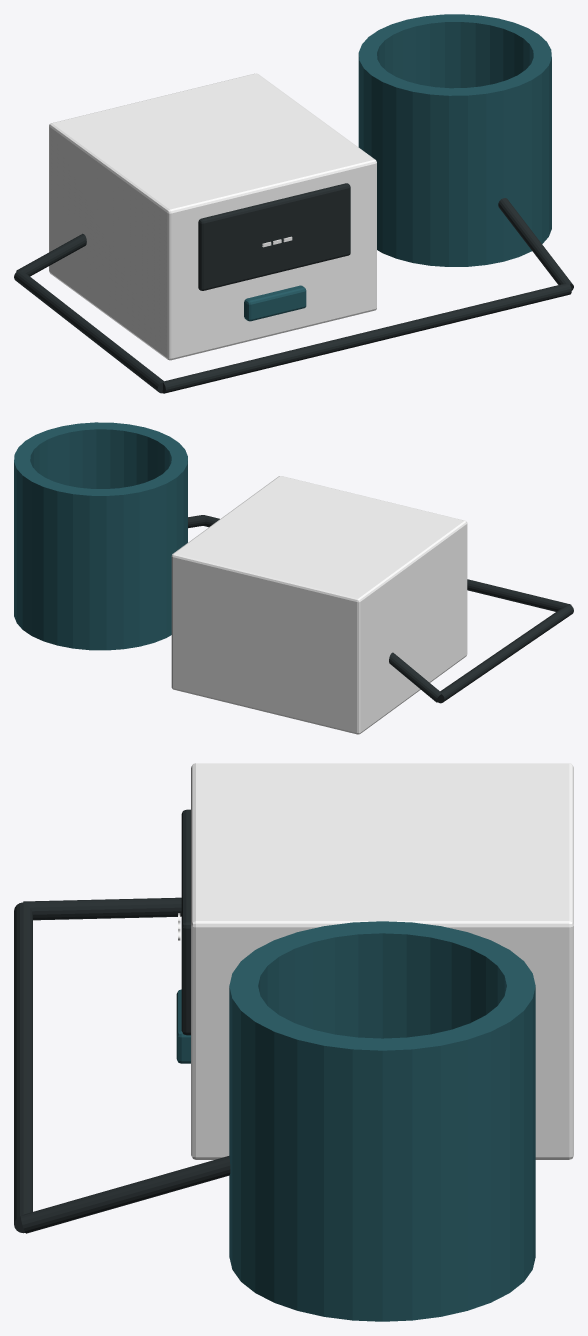
File: blood-pressure-monitor.glb
The picture shows the model from 3 angles, top to bottom: view 1: azimuth 30°, elevation 25°; view 2: azimuth 150°, elevation 25°; view 3: azimuth 270°, elevation 25°; orthographic projection. The views are drawn at different scales.
Parts seen in each view (by area): view 1: Monitor_Housing, Fabric_Cuff, Display, Air_Tube.003, Air_Tube.002, Start_Button, Air_Tube, Air_Tube.001; view 2: Monitor_Housing, Fabric_Cuff, Air_Tube.002, Air_Tube.003, Air_Tube.001; view 3: Fabric_Cuff, Monitor_Housing, Air_Tube.003, Air_Tube, Air_Tube.002, Display, Start_Button.
Part boxes in pixels (left/top/right/bottom): Monitor_Housing: left=49, top=73, right=376, bottom=360; Fabric_Cuff: left=358, top=14, right=551, bottom=266; Display: left=198, top=183, right=350, bottom=290; Air_Tube.003: left=162, top=283, right=571, bottom=393; Air_Tube.002: left=14, top=271, right=163, bottom=393; Start_Button: left=244, top=285, right=306, bottom=321; Air_Tube: left=498, top=198, right=573, bottom=290; Air_Tube.001: left=16, top=233, right=86, bottom=276; Monitor_Housing: left=171, top=476, right=467, bottom=734; Fabric_Cuff: left=14, top=422, right=187, bottom=650; Air_Tube.002: left=438, top=604, right=573, bottom=703; Air_Tube.003: left=203, top=515, right=571, bottom=611; Air_Tube.001: left=389, top=652, right=441, bottom=702; Fabric_Cuff: left=229, top=921, right=535, bottom=1321; Monitor_Housing: left=191, top=763, right=573, bottom=1159; Air_Tube.003: left=14, top=902, right=32, bottom=1233; Air_Tube: left=20, top=1156, right=230, bottom=1233; Air_Tube.002: left=23, top=897, right=181, bottom=920; Display: left=181, top=809, right=190, bottom=1035; Start_Button: left=176, top=989, right=190, bottom=1063.
Bounding box in the file's own units: 0.378 × 0.13 × 0.234.
